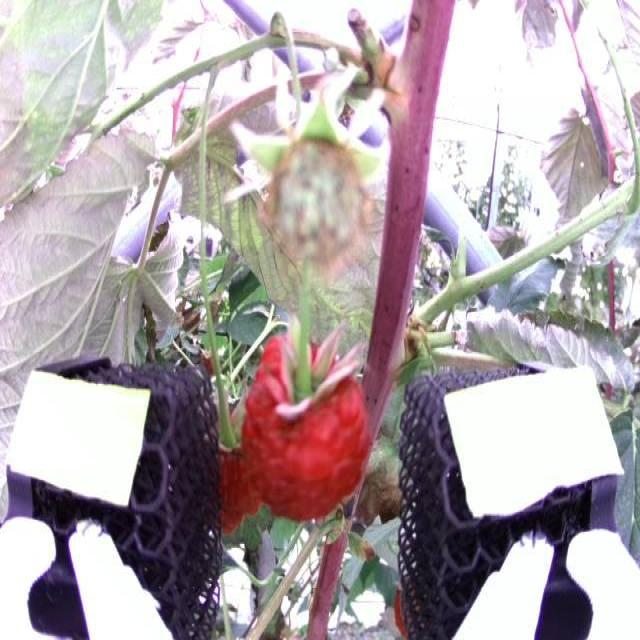Riped berries: (240, 332, 368, 520), (207, 401, 261, 525)
